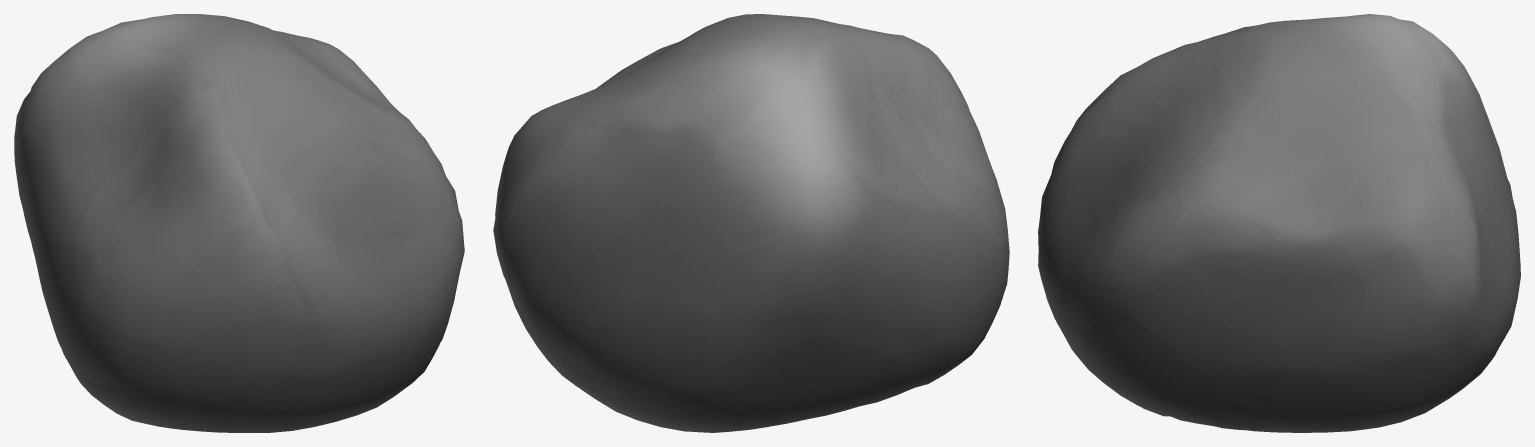
File: ROCA.fbx
3 views of the same model, side by side, from view 1: azimuth 30°, elevation 25°; view 2: azimuth 150°, elevation 25°; view 3: azimuth 270°, elevation 25° (orthographic). The views are drawn at different scales.
Visible parts, largest first — view 1: Sphere; view 2: Sphere; view 3: Sphere.
Part boxes in pixels (x1,y1,x2,y2): Sphere: [14, 14, 464, 432]; Sphere: [493, 14, 1009, 432]; Sphere: [1038, 14, 1520, 432].
Bounding box in the file's own units: 169 × 146 × 187.
Materials: 1 (1 with a texture image).
